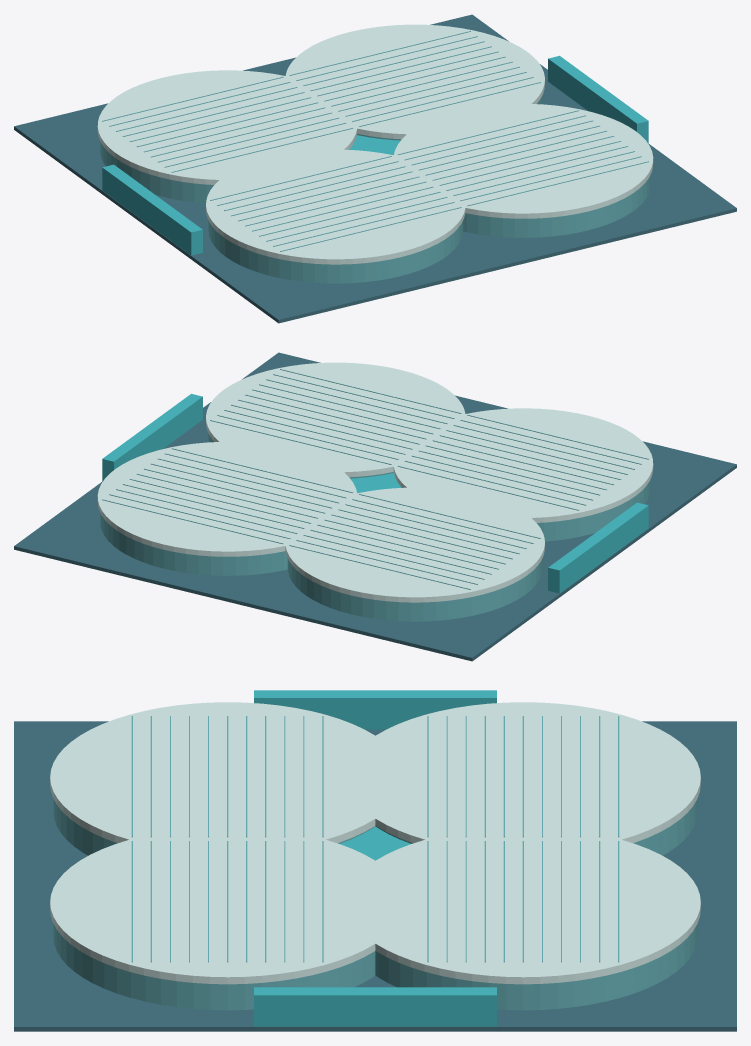
The model's file is exhibition-center.glb.
3 renders of one model, top to bottom at view 1: azimuth 30°, elevation 25°; view 2: azimuth 150°, elevation 25°; view 3: azimuth 270°, elevation 25°, orthographic. The views are drawn at different scales.
Parts seen in each view (by area): view 1: Roof (×4), Plaza, Hall (×3), Entrance (×2), CentralAtrium; view 2: Roof (×4), Plaza, Hall (×3), Entrance (×2), CentralAtrium; view 3: Roof (×4), Plaza, Hall (×4), Entrance (×2), CentralAtrium.
Part boxes in pixels (left/top/right/bottom): Roof (×4): left=97, top=24, right=653, bottom=264; Plaza: left=14, top=14, right=736, bottom=323; Hall (×3): left=100, top=142, right=650, bottom=283; Entrance (×2): left=102, top=55, right=648, bottom=255; CentralAtrium: left=349, top=135, right=400, bottom=155; Roof (×4): left=97, top=362, right=653, bottom=602; Plaza: left=14, top=352, right=736, bottom=661; Hall (×3): left=100, top=480, right=650, bottom=621; Entrance (×2): left=102, top=393, right=648, bottom=593; CentralAtrium: left=350, top=473, right=401, bottom=493; Roof (×4): left=50, top=702, right=700, bottom=984; Plaza: left=14, top=721, right=736, bottom=1031; Hall (×4): left=53, top=799, right=697, bottom=1010; Entrance (×2): left=254, top=690, right=496, bottom=1026; CentralAtrium: left=340, top=826, right=410, bottom=860.
Size of the model in its own units: 1100 by 67.55 by 1100.
